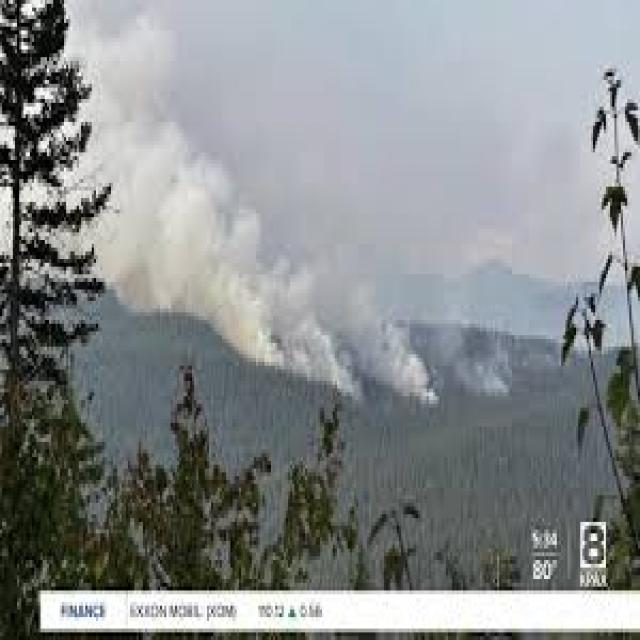Smoke: (114, 116, 298, 372), (197, 212, 369, 404), (358, 272, 446, 409)
